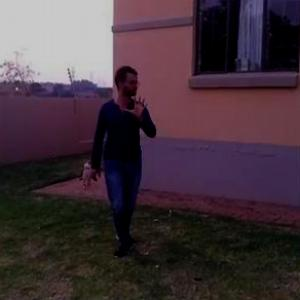follow_hand: (125, 93, 150, 120)
